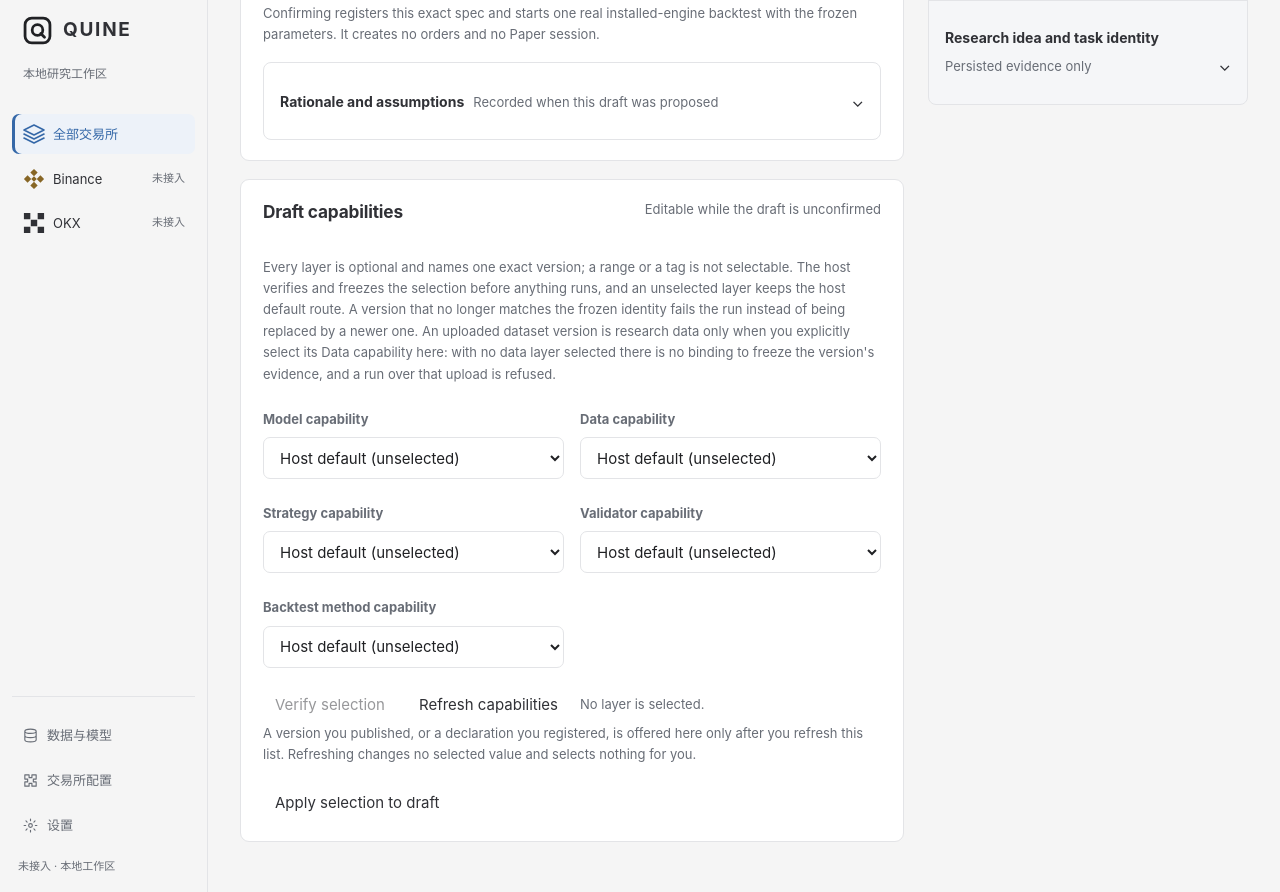
Test: capability selection › applies a user selection to the unconfirmed draft through the host
The width and height of the screenshot is (1280, 892).
(page scrolled)
Step 1. Select "ea.validator.chronological-holdout.v1 · 1.0.0" in the dropdown labelled "Validator capability" → (730, 552), box [580,532,881,574]
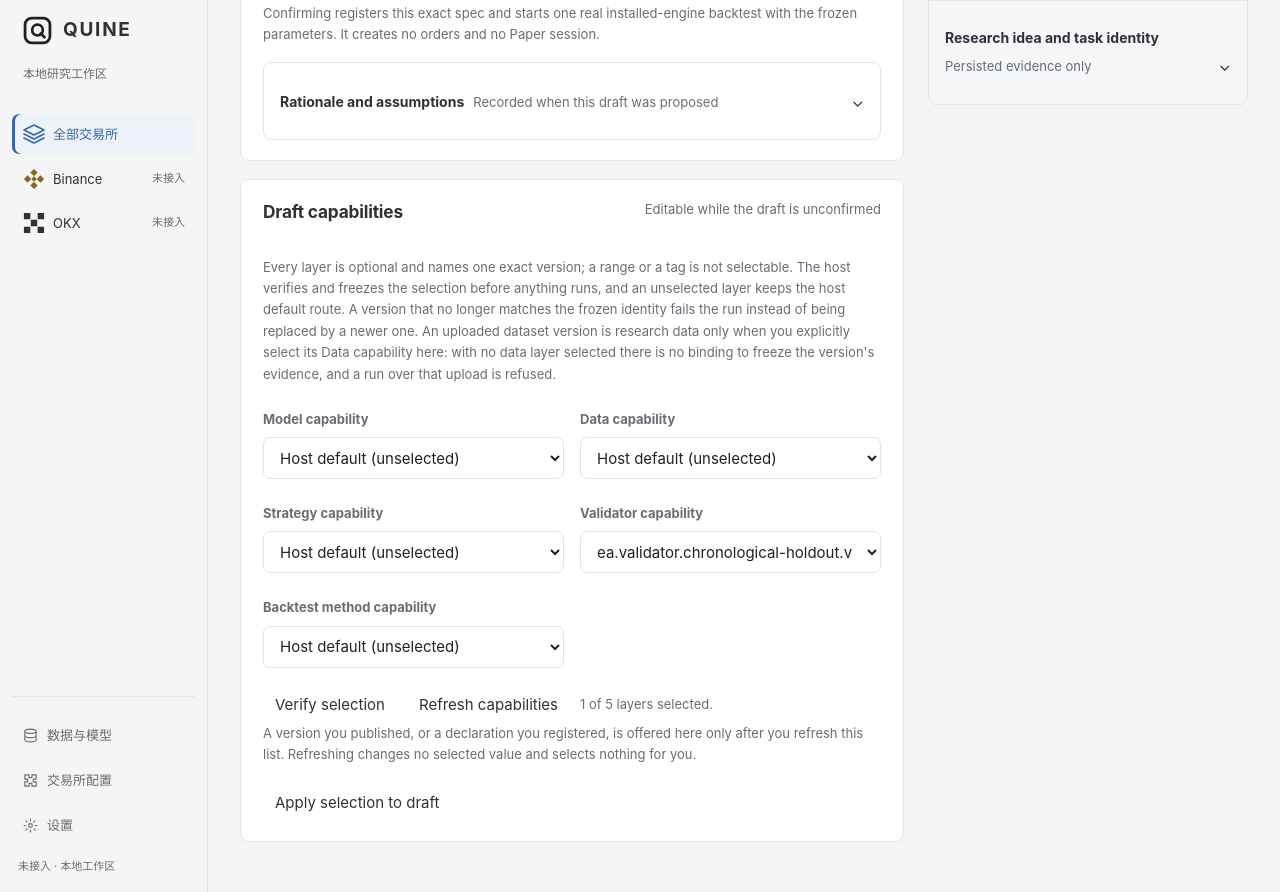
Step 2. Click the button "Apply selection to draft" → (357, 802), box [263,784,452,821]
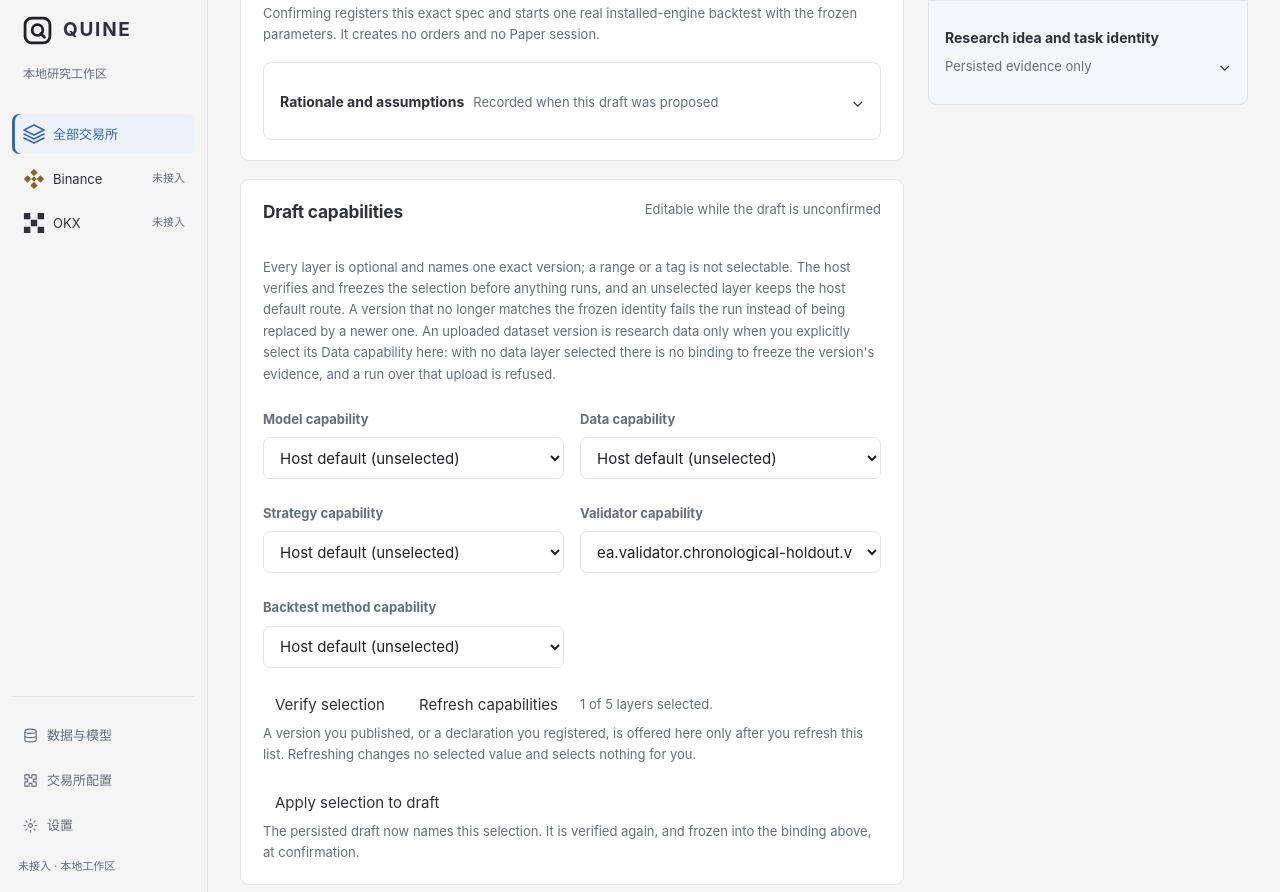
Expected: the text "The persisted draft now names this selection" is shown, [263,823,871,860]
